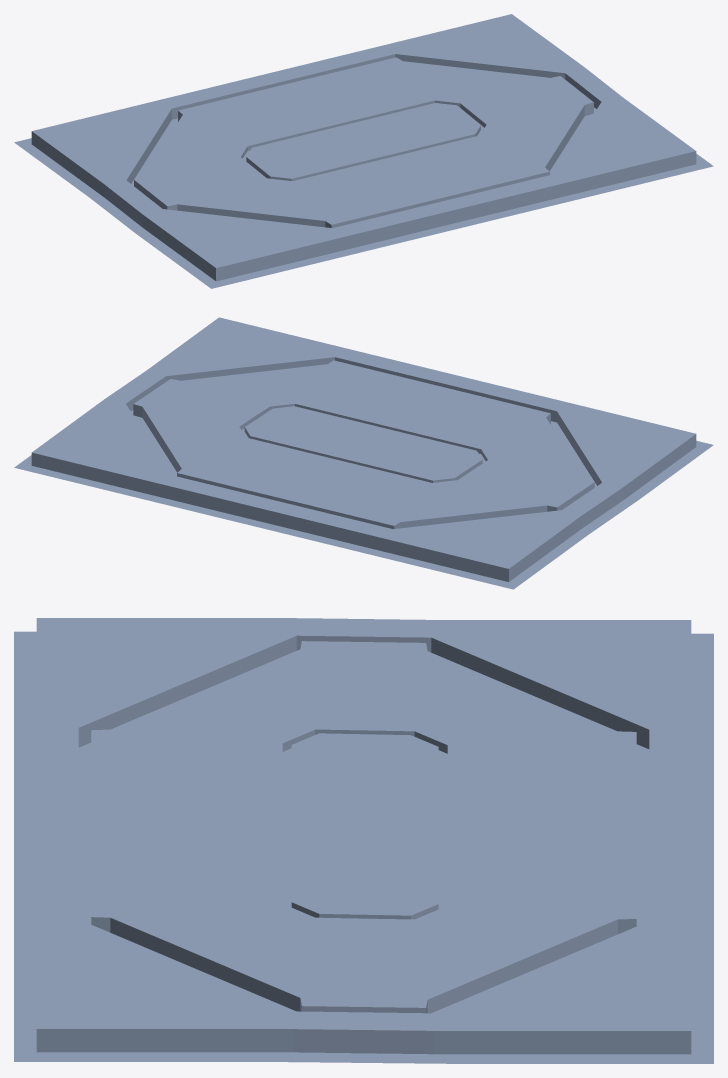
The model's file is T2_FloorSmall3.fbx.
3 renders of one model, top to bottom at view 1: azimuth 30°, elevation 25°; view 2: azimuth 150°, elevation 25°; view 3: azimuth 270°, elevation 25°, orthographic. The views are drawn at different scales.
Parts seen in each view (by area): view 1: T2_Floor069; view 2: T2_Floor069; view 3: T2_Floor069.
Boxes of the visible parts, x1=… form: T2_Floor069: x1=14, y1=14, x2=713, y2=288; T2_Floor069: x1=14, y1=317, x2=713, y2=589; T2_Floor069: x1=14, y1=618, x2=713, y2=1063.
Bounding box in the file's own units: 119 × 2.99 × 81.28.
